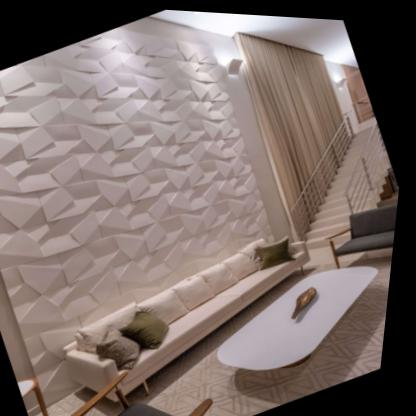Futech tiles: (0, 50, 248, 286)
